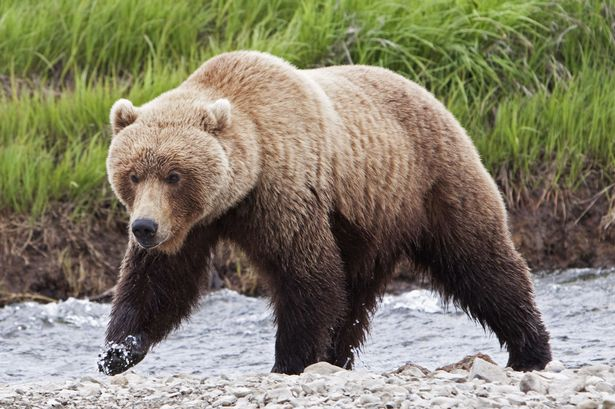bear: (95, 93, 239, 250)
